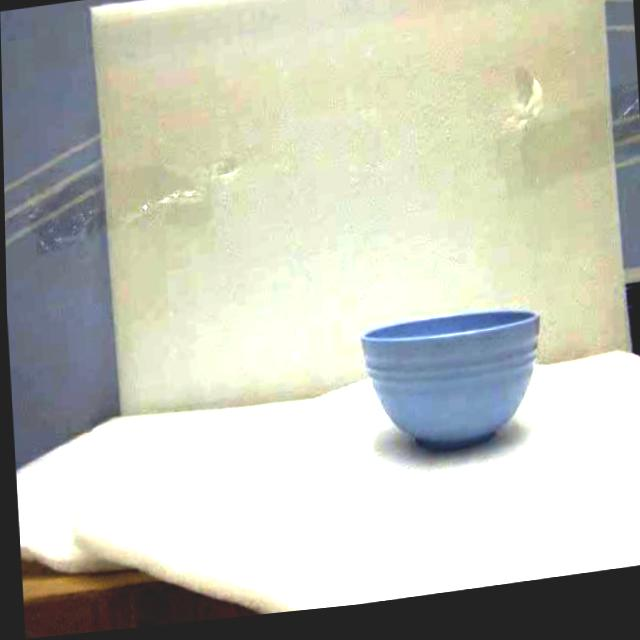Bowl: (360, 310, 539, 450)
